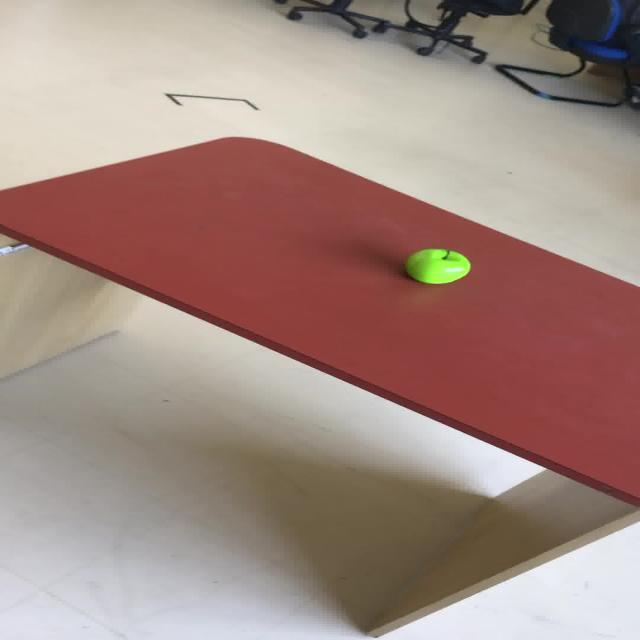apple: (404, 248, 471, 284)
